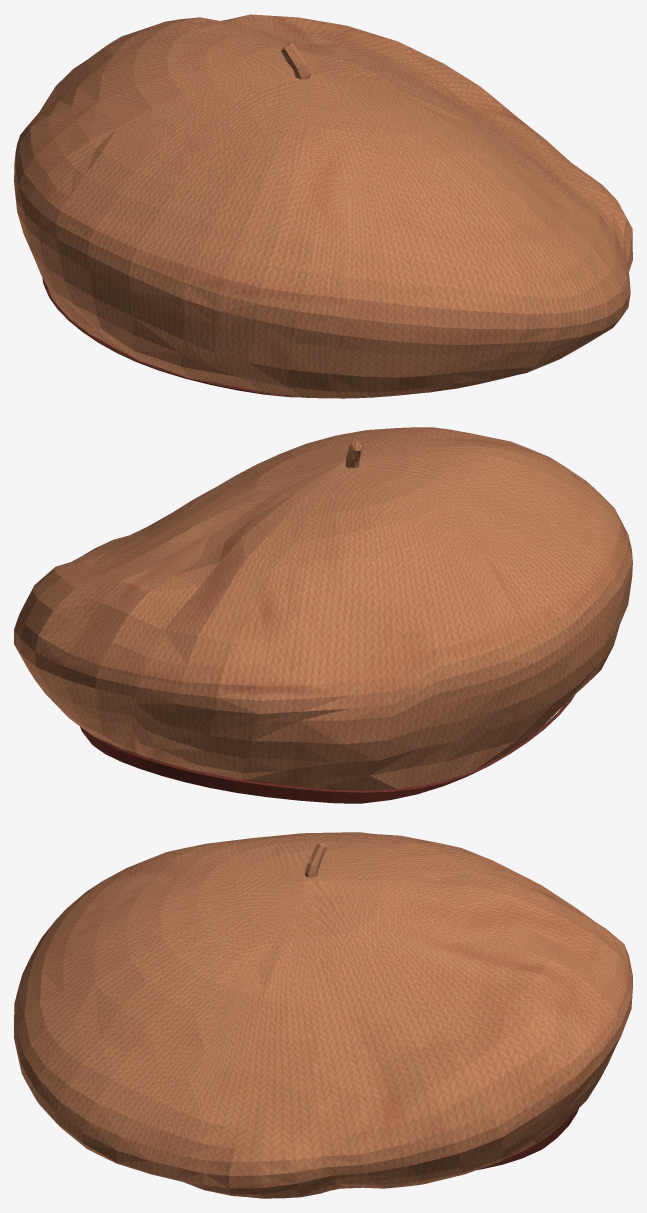
Rendered from beremopi.fbx.
3 views of the same model, one above another, from view 1: azimuth 30°, elevation 25°; view 2: azimuth 150°, elevation 25°; view 3: azimuth 270°, elevation 25° (orthographic). The views are drawn at different scales.
Visible parts, largest first — view 1: node_id5; view 2: node_id5; view 3: node_id5.
Boxes of the visible parts, x1,y1,x2,y2 form: node_id5: (14,14,632,398); node_id5: (14,427,632,803); node_id5: (14,832,632,1198).
Bounding box in the file's own units: 0.512 × 0.2401 × 0.5616.
1 material, 1 textured.
